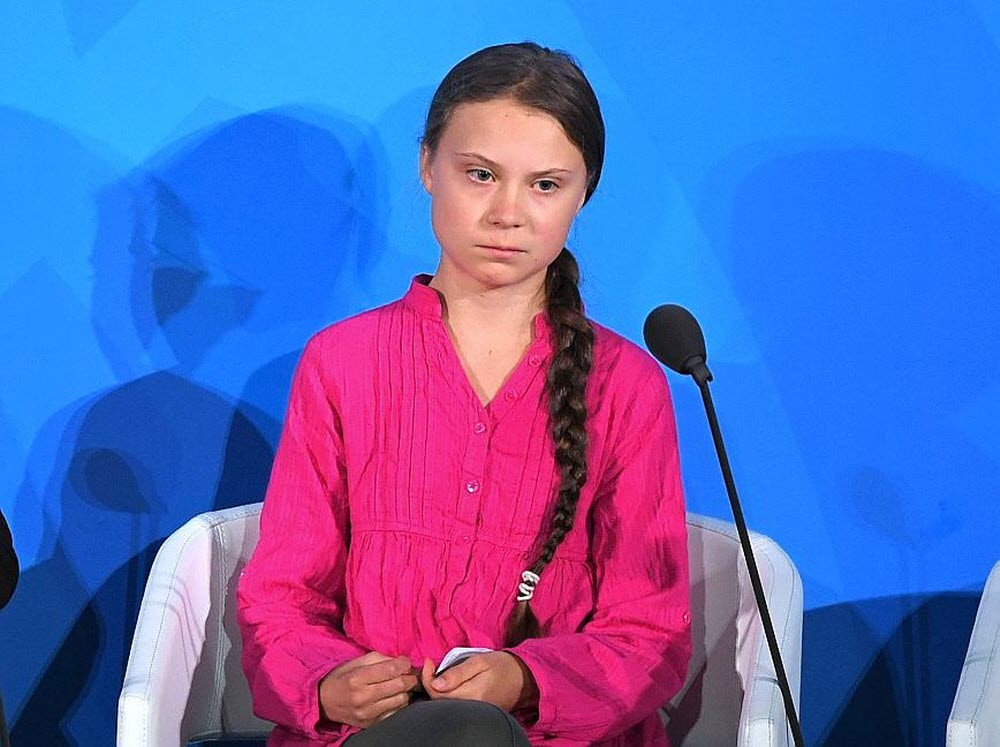without_mask: (422, 105, 588, 280)
